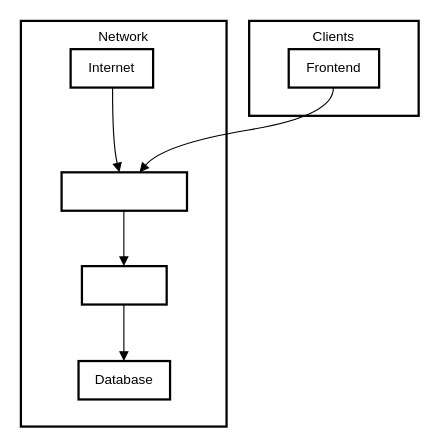
The diagram is 438 pixels wide and 446 high, and some of its shapes have lost their labels. The box of each missing label's shape, as (x1, y1, x2, y2) in pixels:
Backend: (80, 264, 167, 305)
LoadBalancer: (60, 171, 188, 211)
